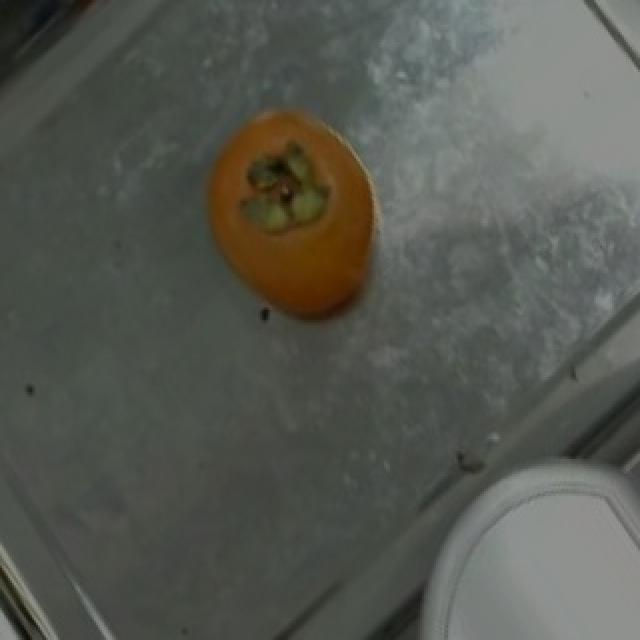Fruit: (176, 85, 408, 338), (428, 466, 640, 640)
